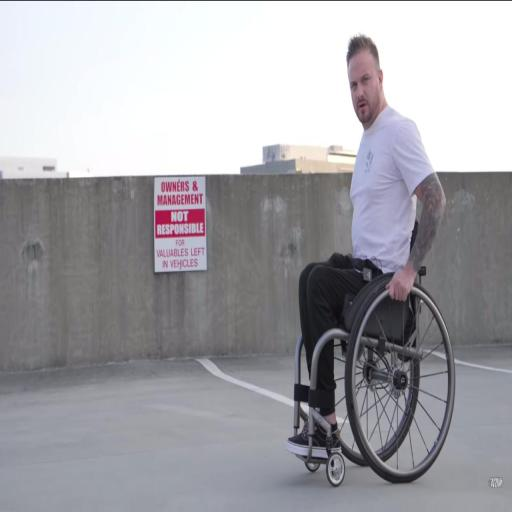cadeira_de_rodas: (291, 30, 458, 486)
